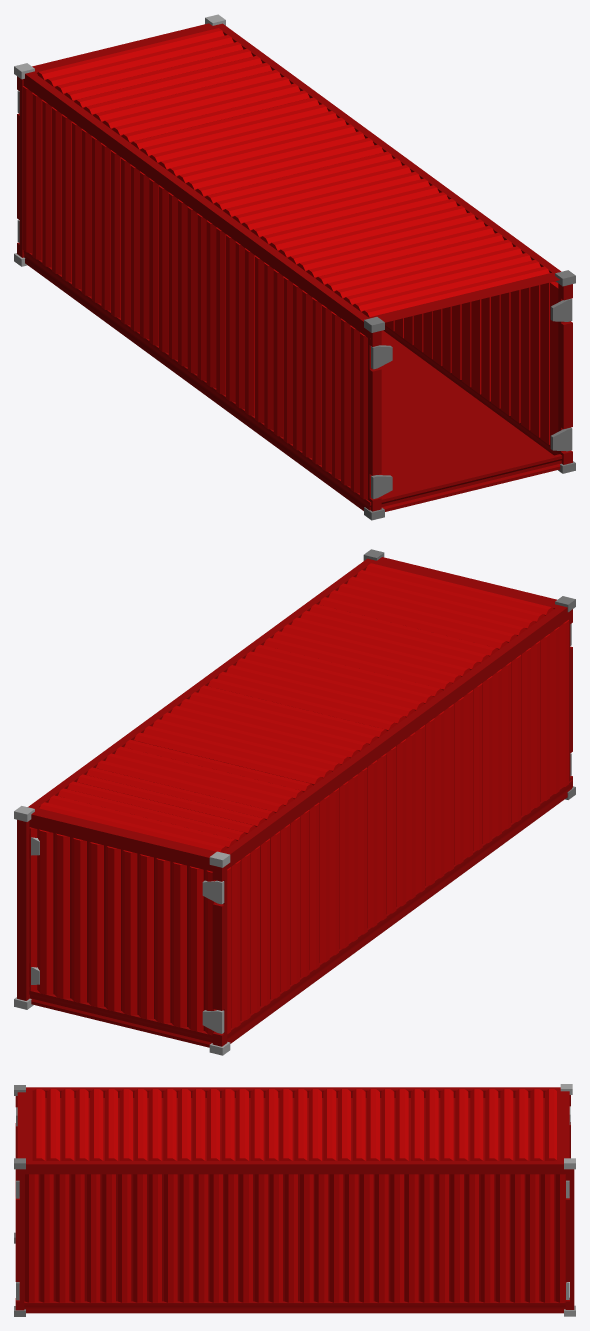
Rendered from conteneur_rouge.fbx.
3 views of the same model, one above another, from view 1: azimuth 30°, elevation 25°; view 2: azimuth 150°, elevation 25°; view 3: azimuth 270°, elevation 25° (orthographic). The views are drawn at different scales.
Visible parts, largest first — view 1: polySurface137; view 2: polySurface137; view 3: polySurface137.
Part boxes in pixels (box(x1,y1,x2,y2)): polySurface137: box(14, 14, 575, 520); polySurface137: box(14, 549, 575, 1055); polySurface137: box(14, 1084, 575, 1316).
Bounding box in the file's own units: 2.02 × 1.82 × 6.03.
